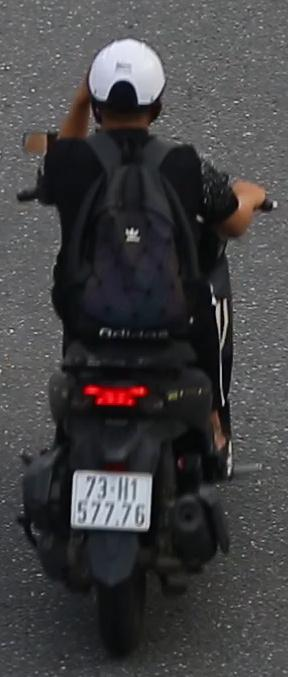LP: (70, 466, 156, 536)
helmet: (84, 33, 169, 143)
